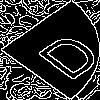D: (25, 25, 100, 83)
